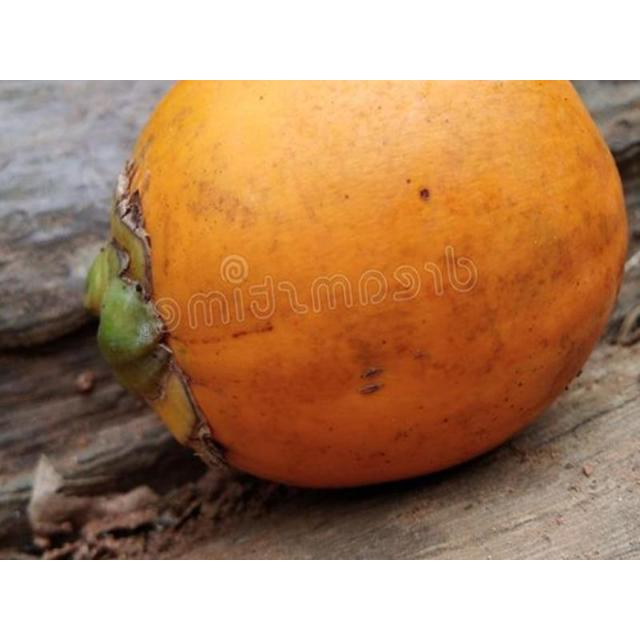good: (86, 80, 629, 492)
